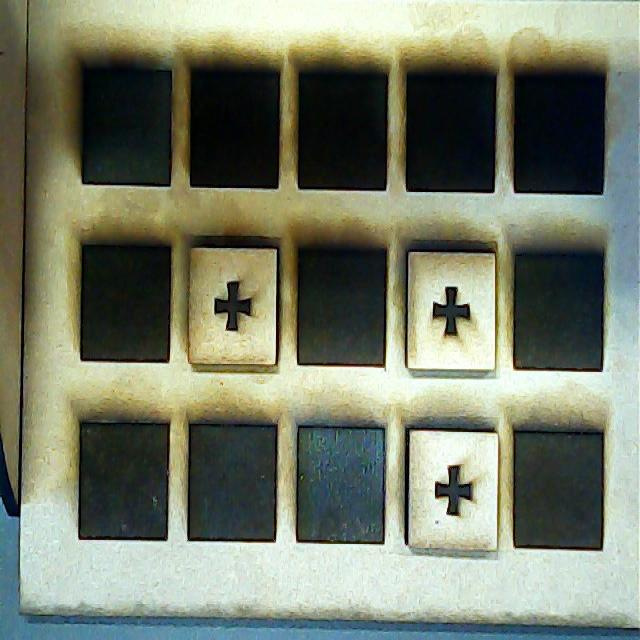temple: (407, 250, 497, 373), (408, 427, 498, 550), (187, 245, 279, 364)
